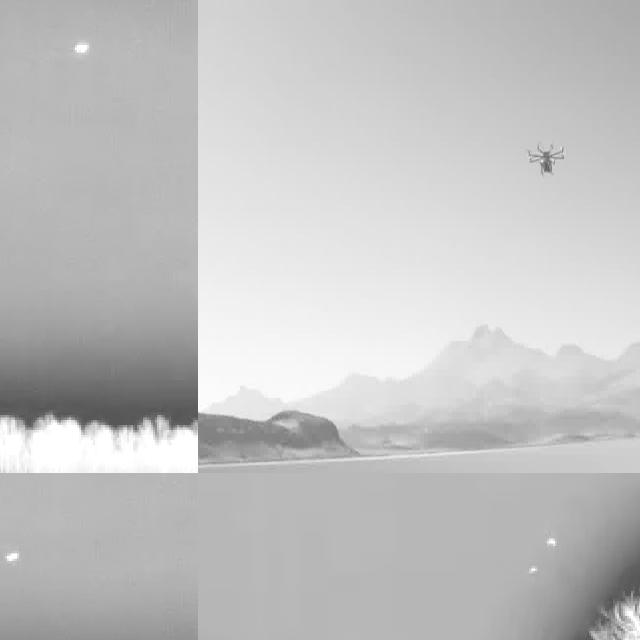0: (535, 534, 563, 556), (521, 564, 541, 584)
1: (70, 38, 94, 60), (0, 548, 24, 568)
drone: (524, 138, 568, 186)
